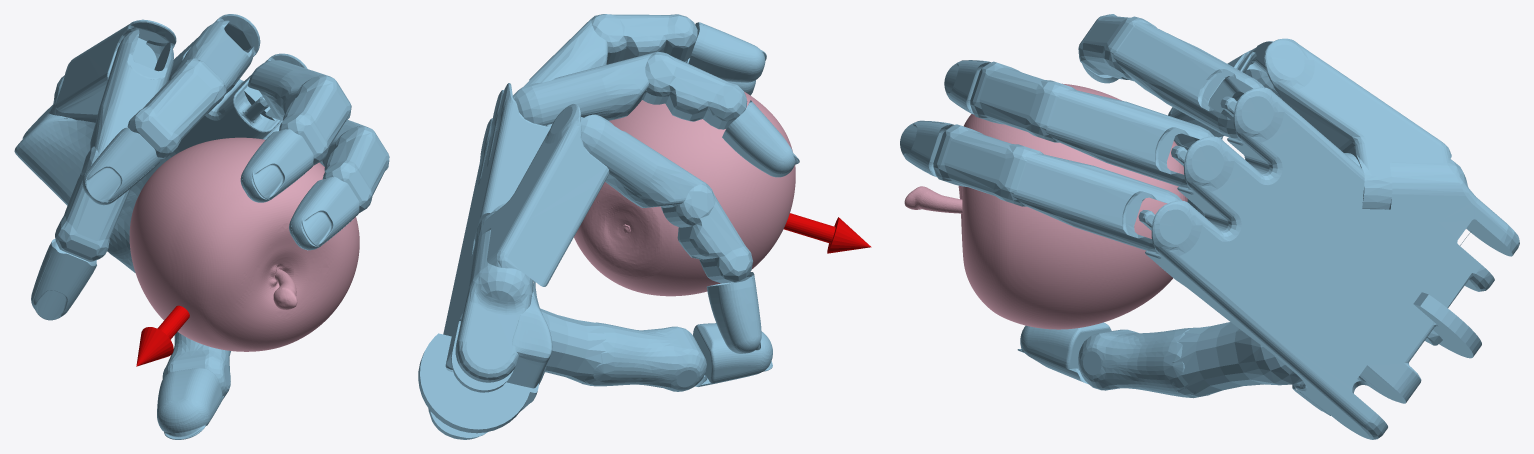
3 renders of one model, left to right at view 1: azimuth 30°, elevation 25°; view 2: azimuth 150°, elevation 25°; view 3: azimuth 270°, elevation 25°, orthographic. The views are drawn at different scales.
Parts seen in each view (by area): view 1: world, apple.stl; view 2: world, apple.stl; view 3: world, apple.stl.
Boxes of the visible parts, x1,y1,x2,y2 form: world: (14,14,389,439); apple.stl: (129,137,359,351); world: (418,14,871,439); apple.stl: (574,91,795,296); world: (900,14,1519,439); apple.stl: (904,83,1187,329).
Size of the model in its own units: 0.1193 by 0.1282 by 0.1923.
